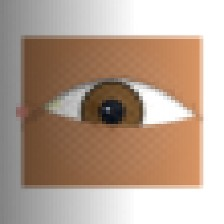pinguecula_lesion: (27, 84, 74, 121)
